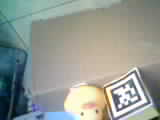duck: (51, 80, 110, 114)
